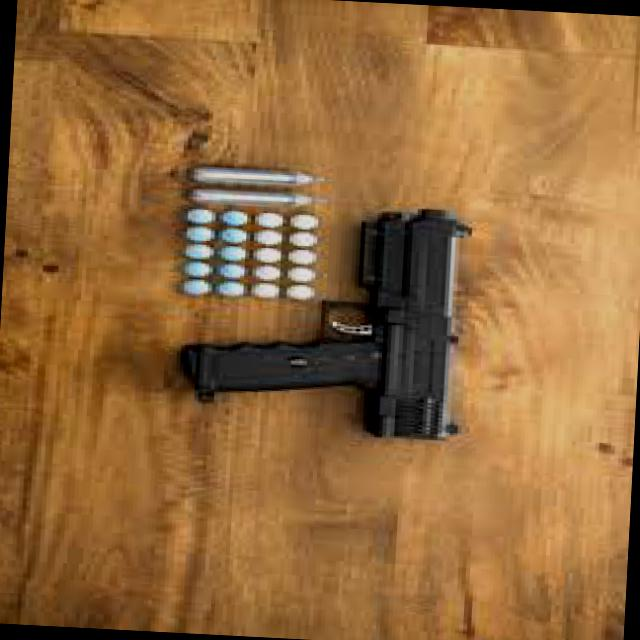handgun: (180, 193, 480, 442)
